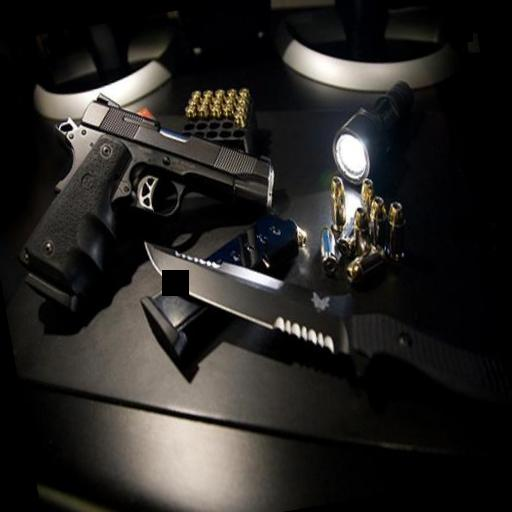Handgun: (0, 62, 290, 308)
